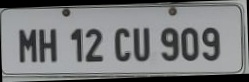character: (84, 27, 104, 62), (18, 27, 37, 63), (38, 27, 57, 63), (159, 27, 179, 61), (180, 26, 199, 61), (201, 26, 220, 61), (132, 26, 150, 61), (113, 27, 131, 61), (69, 27, 82, 62)
